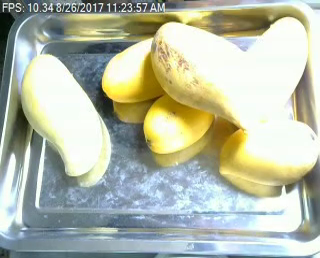Mango: (148, 21, 267, 129), (20, 54, 99, 178), (219, 117, 320, 188), (241, 14, 308, 108), (142, 93, 215, 154), (100, 36, 165, 100)
